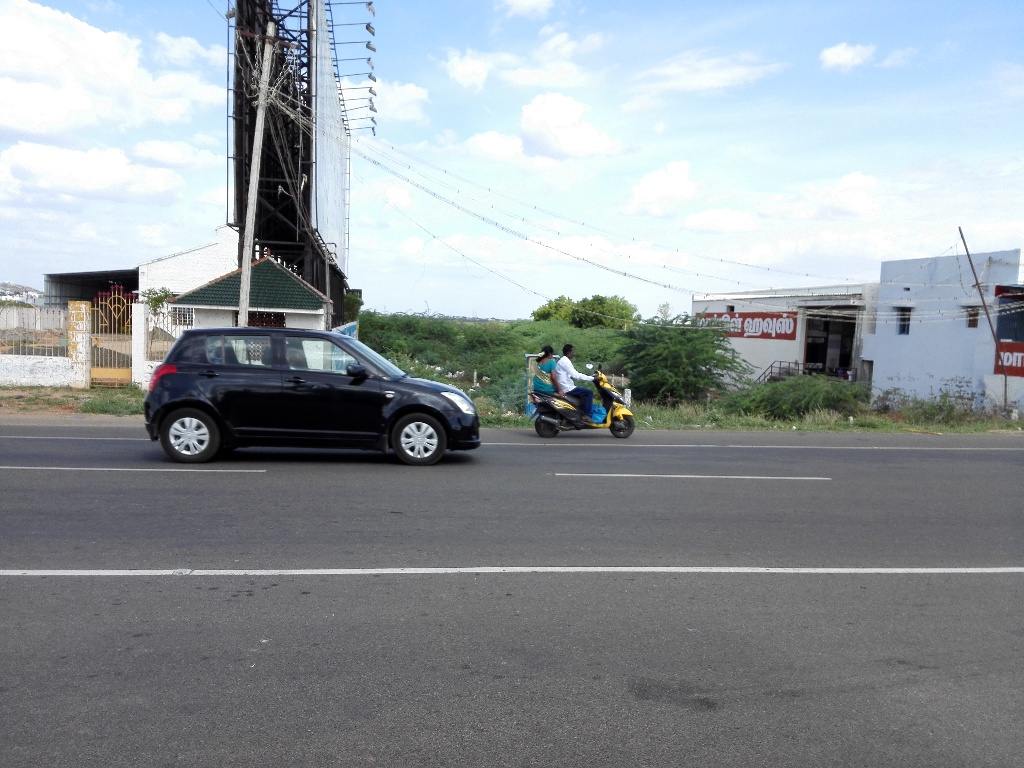biker: (516, 311, 651, 450)
nohelmet: (558, 335, 582, 368), (535, 334, 559, 367)
